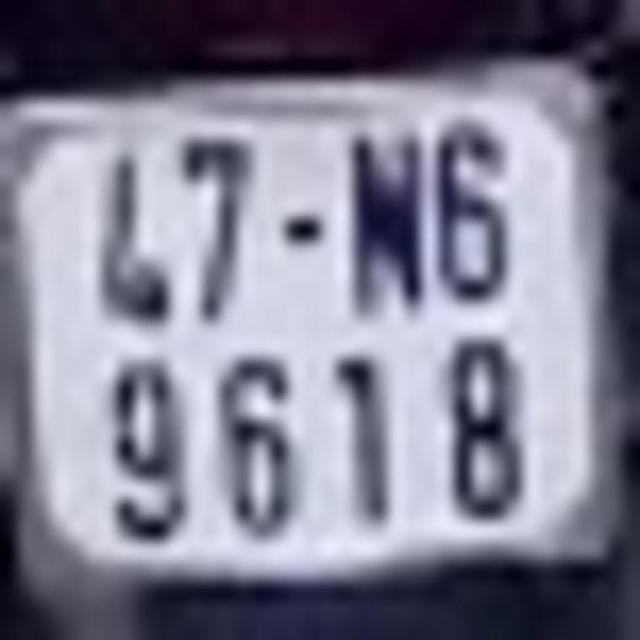1: (334, 350, 396, 526)
4: (96, 146, 175, 330)
6: (218, 349, 295, 540), (435, 115, 511, 304)
7: (178, 132, 255, 327)
8: (447, 332, 526, 523)
9: (110, 352, 188, 544)
N: (347, 128, 426, 320)
